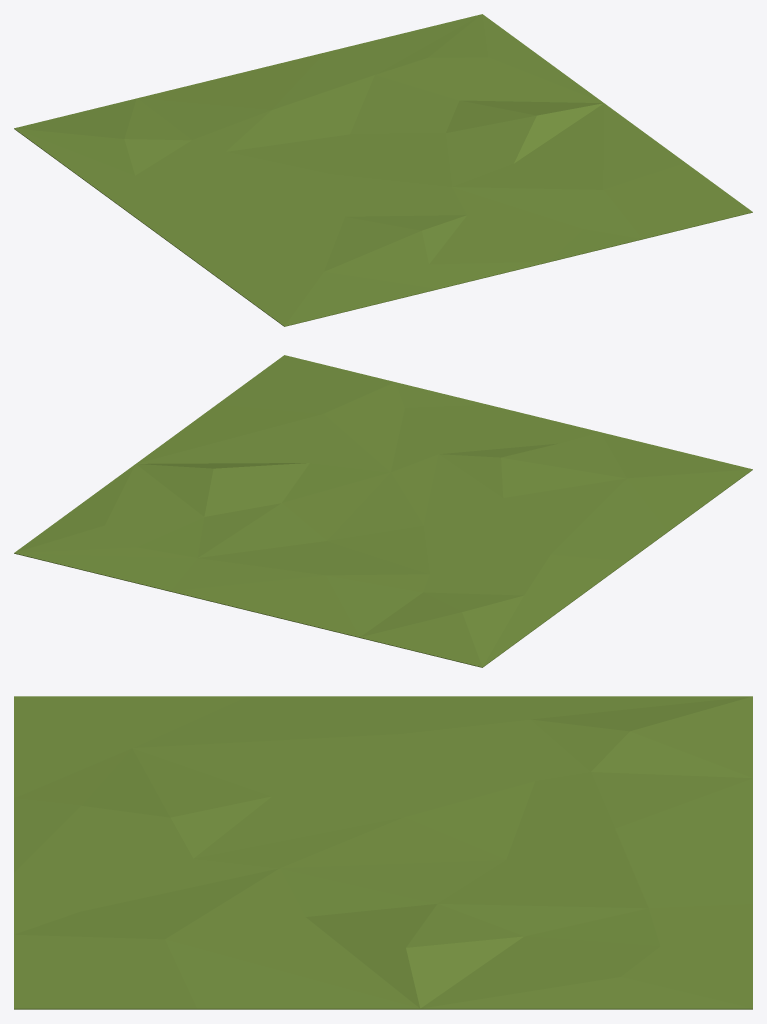
Rendered from Grass_Module_4M.glb.
3 renders of one model, top to bottom at view 1: azimuth 30°, elevation 25°; view 2: azimuth 150°, elevation 25°; view 3: azimuth 270°, elevation 25°, orthographic. The views are drawn at different scales.
Parts seen in each view (by area): view 1: Grass_Module_4M; view 2: Grass_Module_4M; view 3: Grass_Module_4M.
Boxes of the visible parts, bbox=[...] form: Grass_Module_4M: bbox=[14, 14, 752, 326]; Grass_Module_4M: bbox=[14, 355, 752, 667]; Grass_Module_4M: bbox=[14, 696, 752, 1009].
Size of what is drawn, in the model's own units: 4 by 0.0794 by 4.
1 material, 1 textured.
